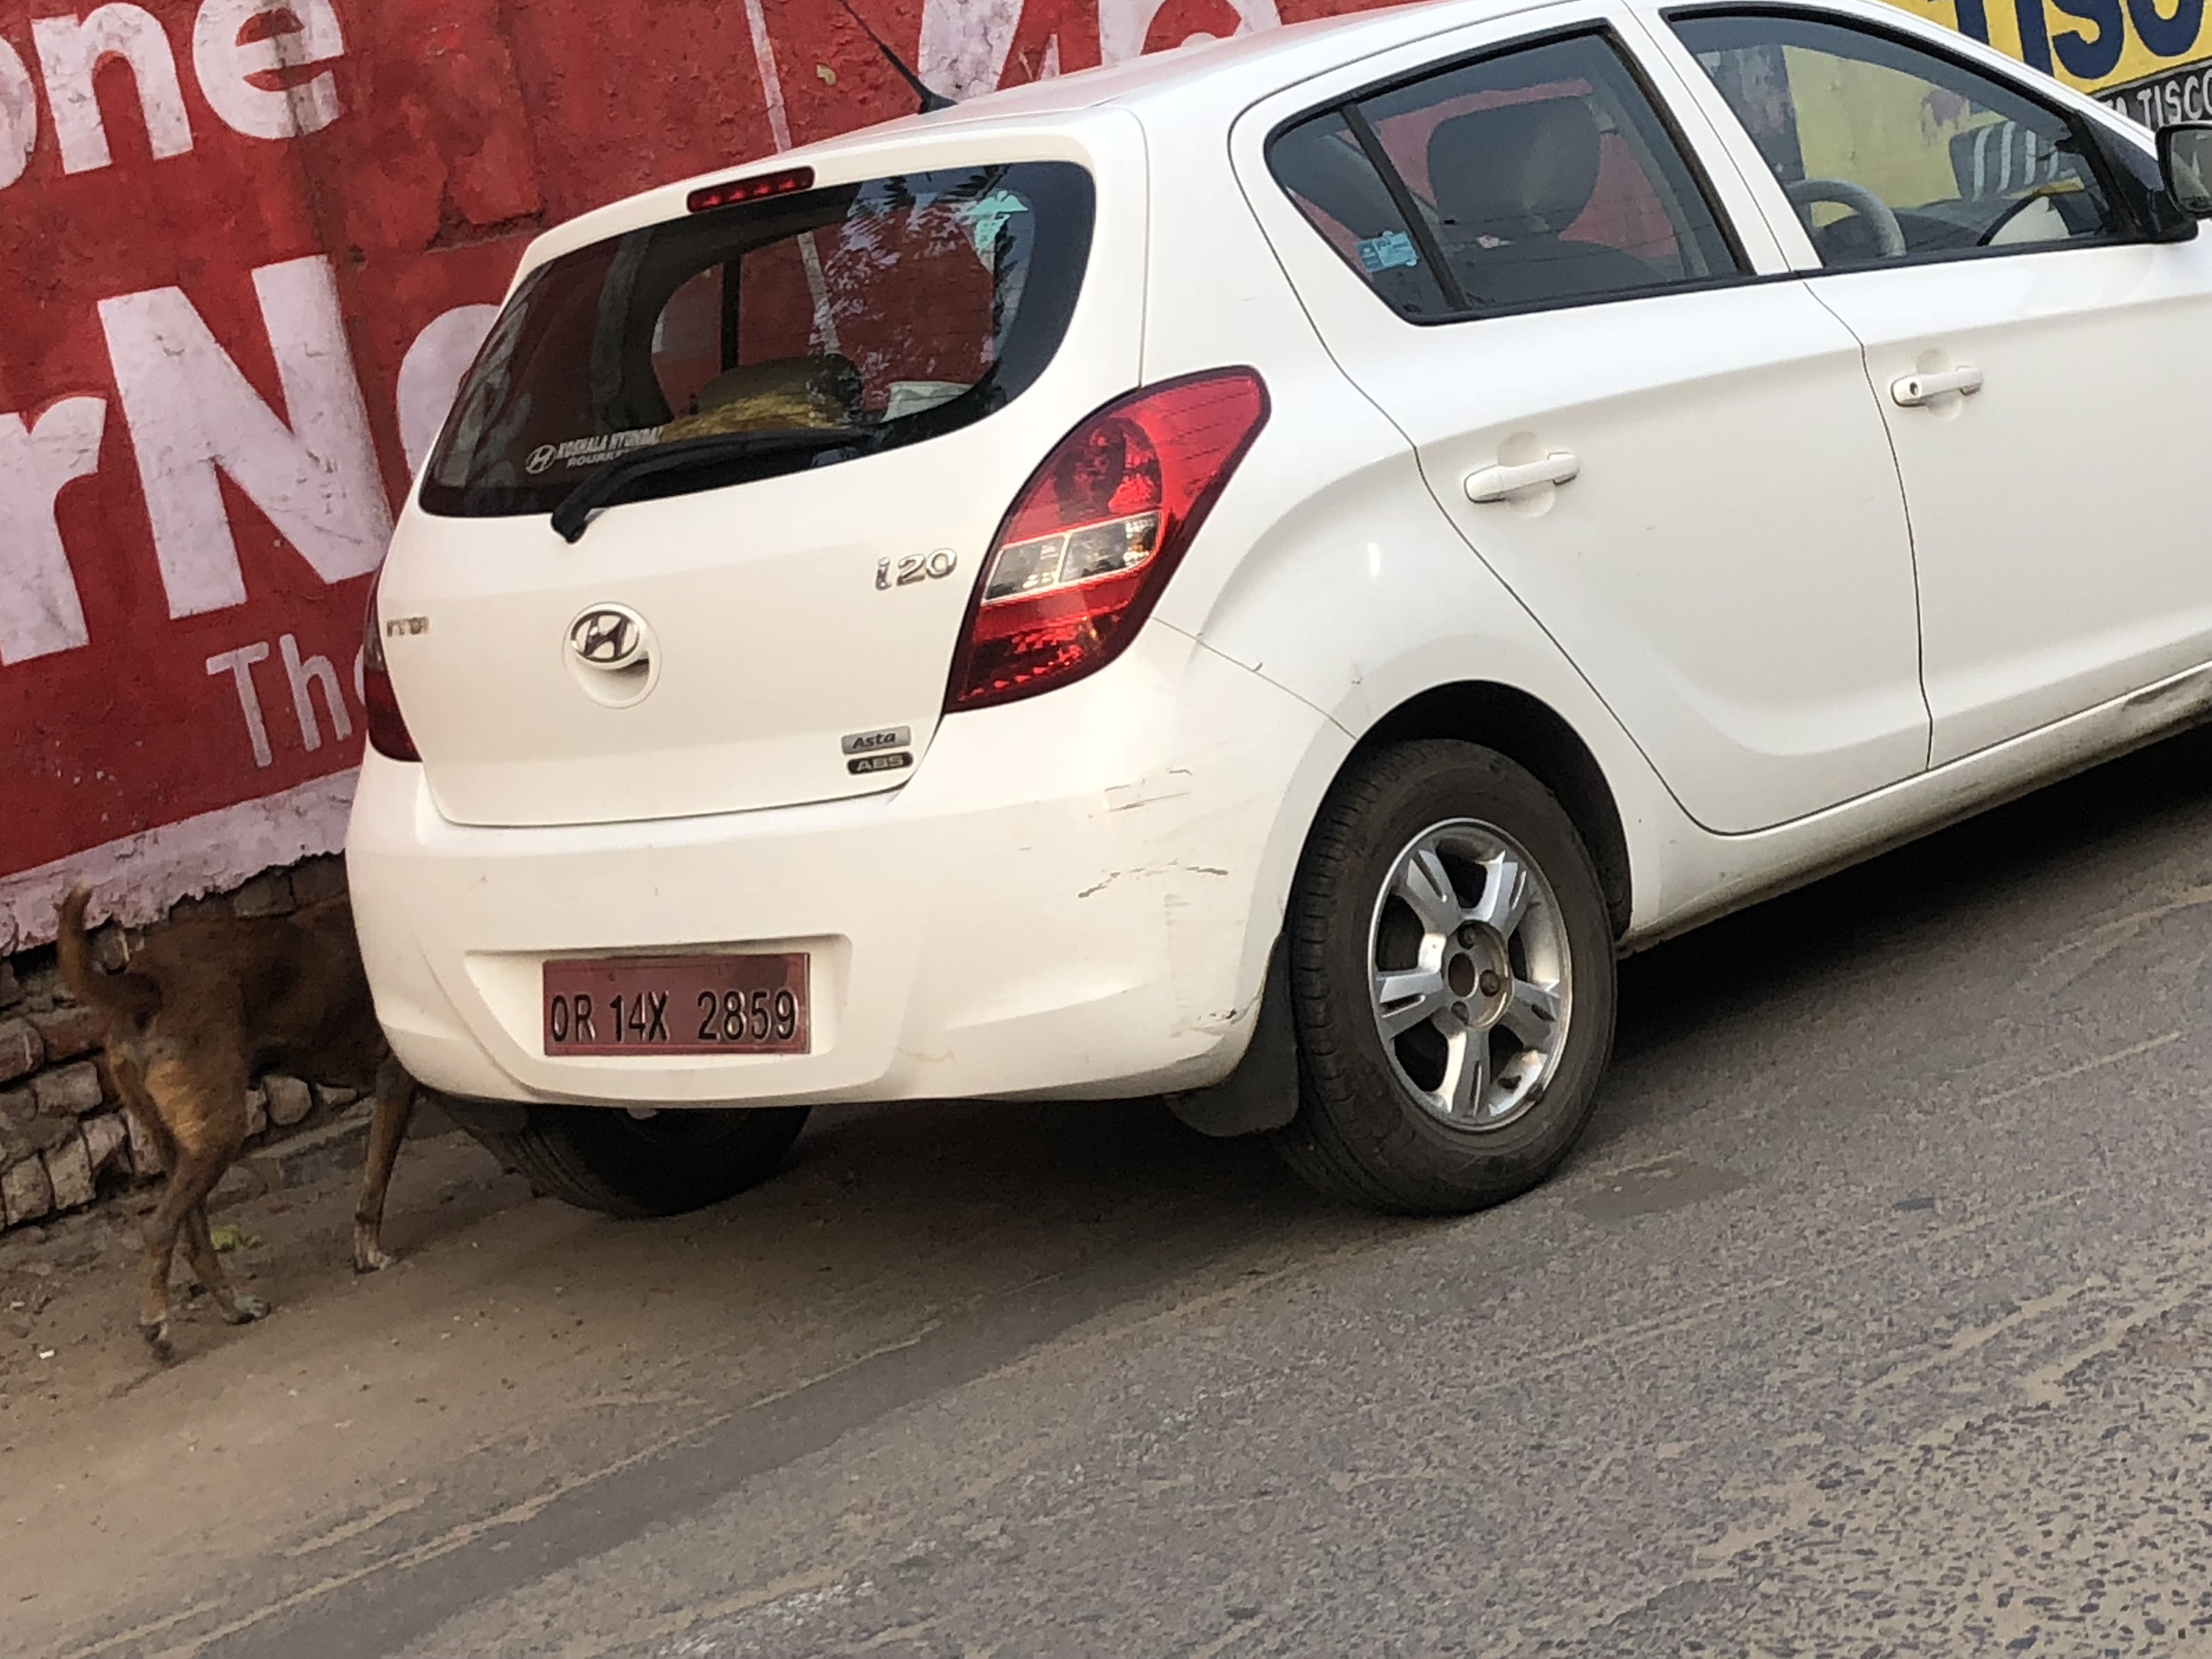licenseplate: (522, 937, 831, 1068)
